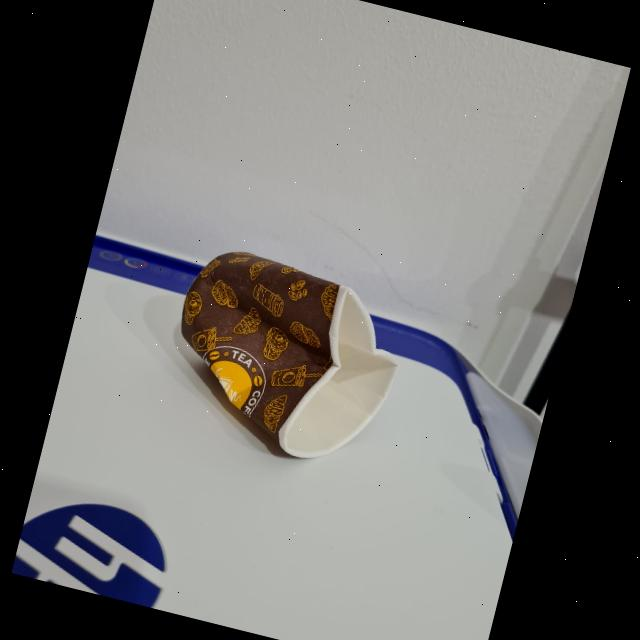trash: (124, 220, 431, 488)
